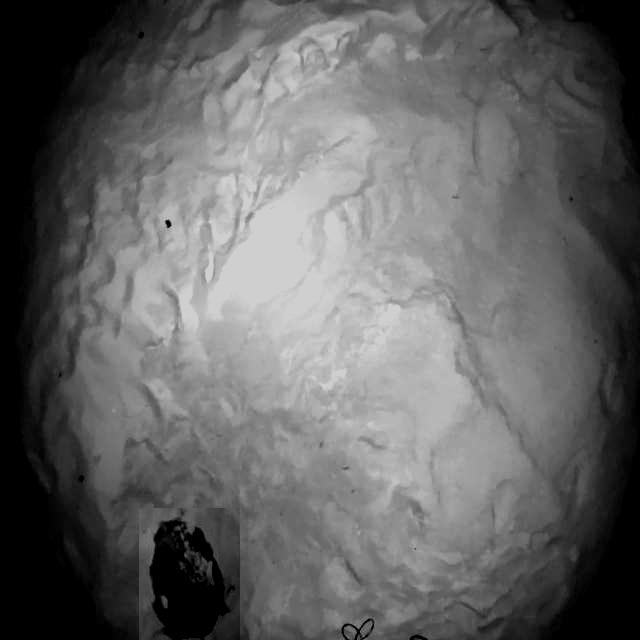Sea turtle: (139, 508, 240, 640)
